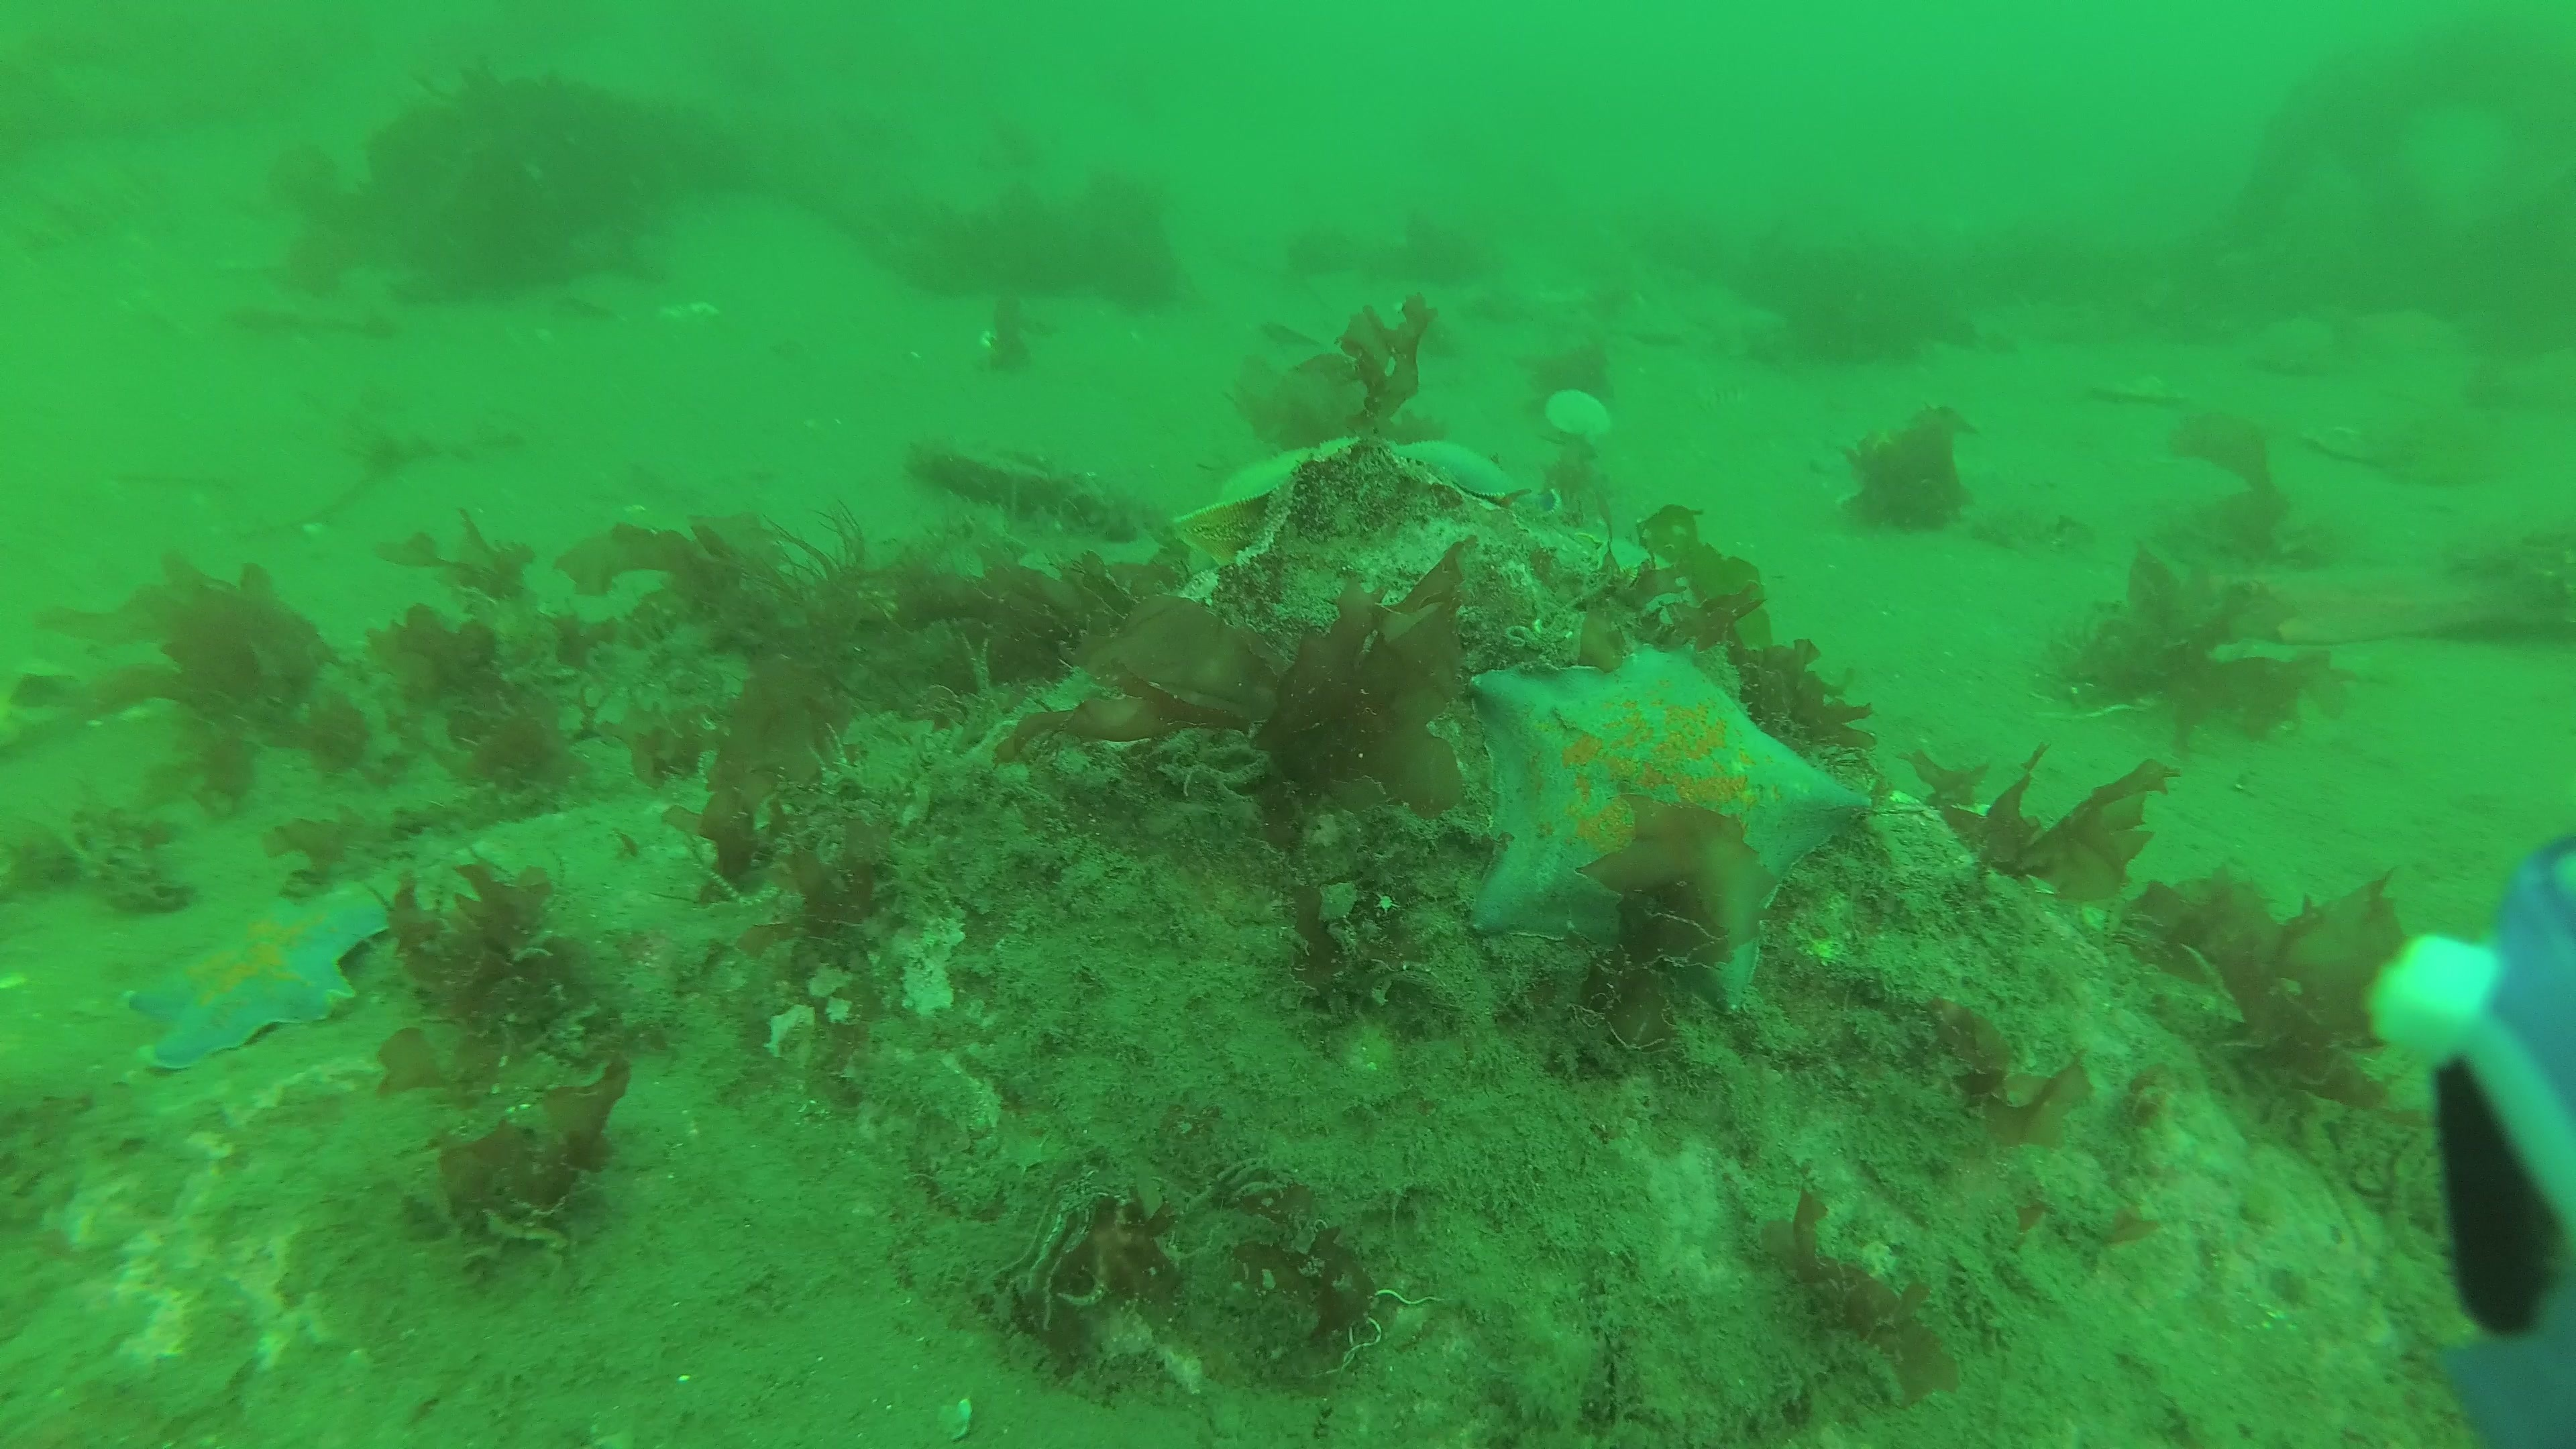starfish: (1447, 616, 1872, 1024), (115, 878, 398, 1074), (1171, 433, 1539, 571)
